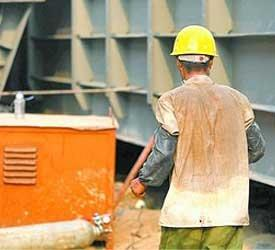helmet: (170, 25, 221, 59)
